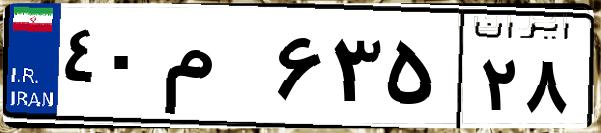0: (110, 28, 158, 98)
2: (475, 38, 525, 113)
3: (330, 28, 385, 110)
4: (57, 26, 110, 100)
5: (385, 28, 445, 110)
6: (270, 28, 330, 110)
8: (525, 38, 570, 115)
م: (158, 20, 270, 120)
